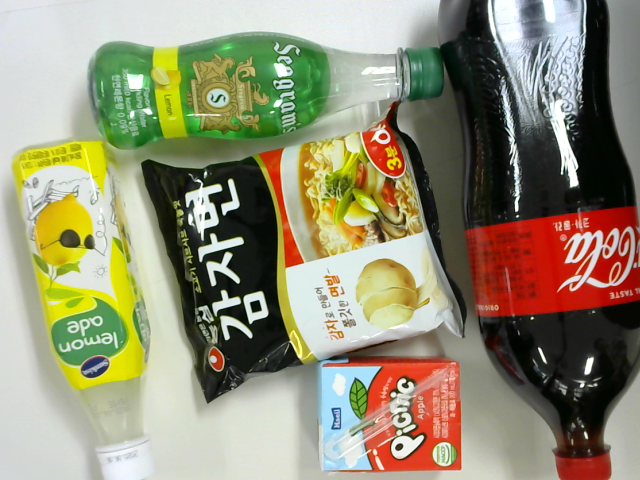Coca_Cola_1.5L: (439, 1, 640, 479)
Picnic_Apple: (315, 362, 463, 476)
Potato: (143, 108, 467, 404)
Seagram_Lemon_Carbonated_Water: (79, 40, 447, 154)
Sunkist_Lemonaid_Pet: (11, 140, 154, 480)
